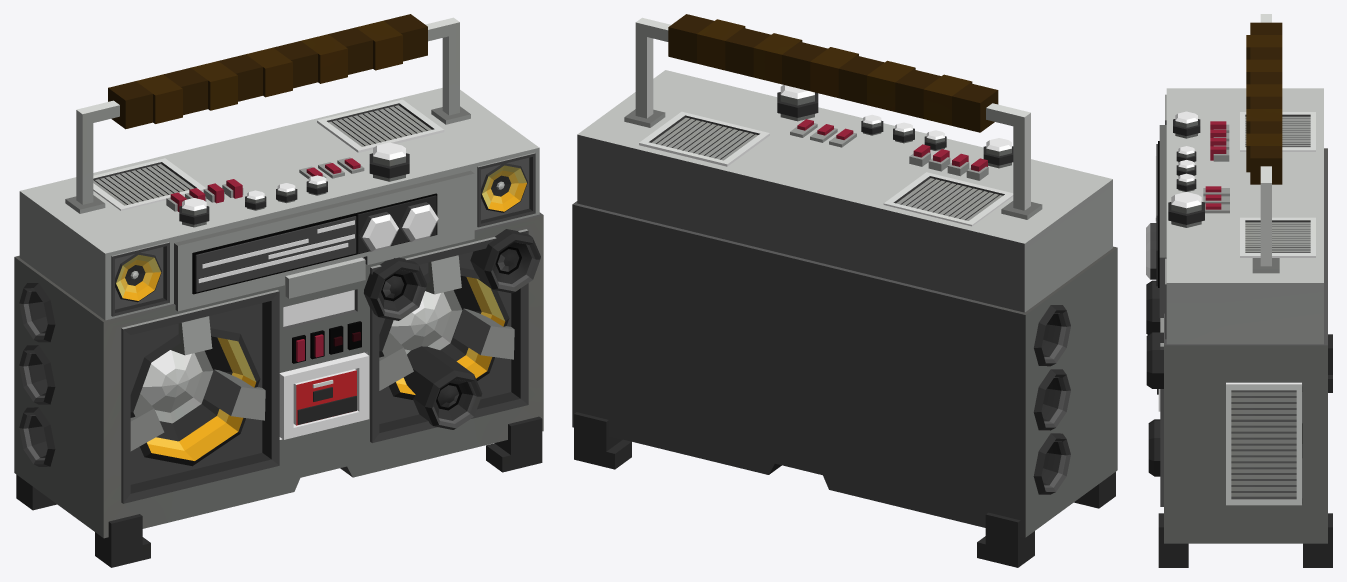
The model's file is Boombox.glb.
3 views of the same model, side by side, from view 1: azimuth 30°, elevation 25°; view 2: azimuth 150°, elevation 25°; view 3: azimuth 270°, elevation 25° (orthographic). The views are drawn at different scales.
Parts seen in each view (by area): view 1: polySurface697; view 2: polySurface697; view 3: polySurface697.
Part boxes in pixels (x1,y1,x2,y2): polySurface697: (14,14,543,567); polySurface697: (572,14,1117,567); polySurface697: (1146,14,1332,567).
Bounding box in the file's own units: 0.1008 × 0.0891 × 0.0396.
2 materials, 1 textured.
